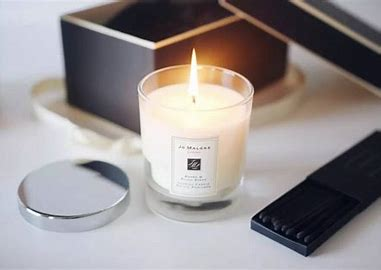Fire: (184, 42, 207, 102)
